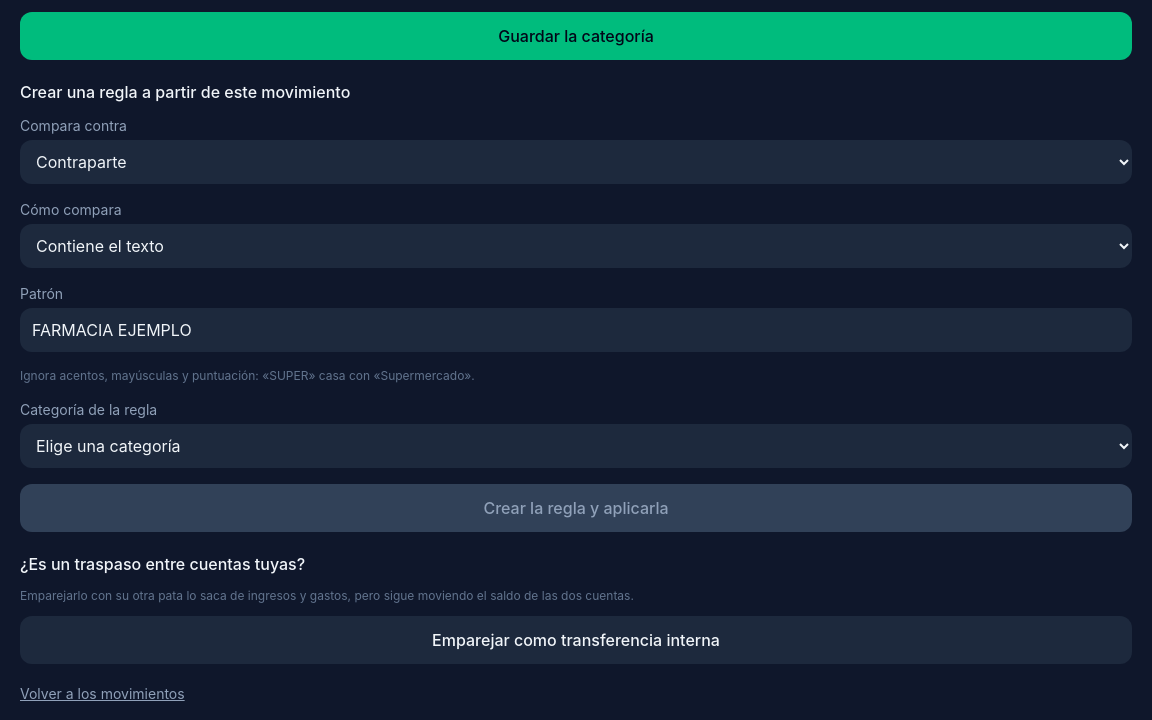
Test: TransactionScreen · crear una regla › enseña el detalle del campo cuando la API rechaza el patrón
(page scrolled)
Select "Salud" in the dropdown labelled "Categoría de la regla" at (576, 446), box [20, 424, 1132, 468]
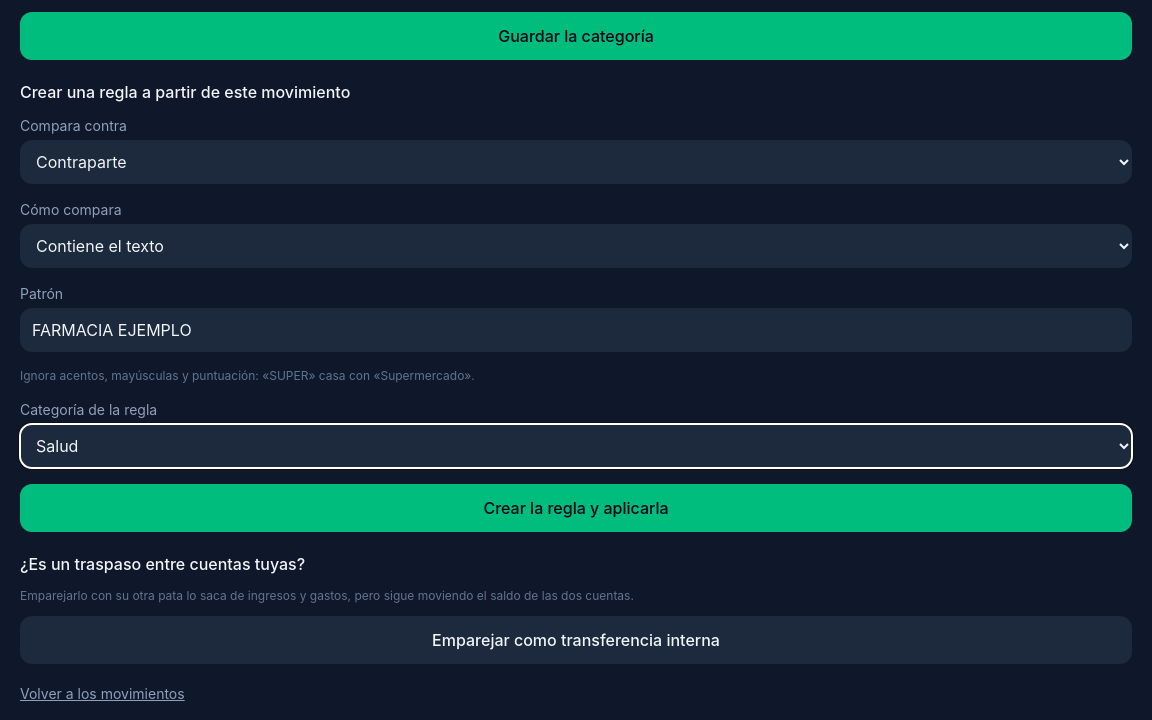
Click the button "Crear la regla y aplicarla" at (576, 508), box [20, 484, 1132, 532]
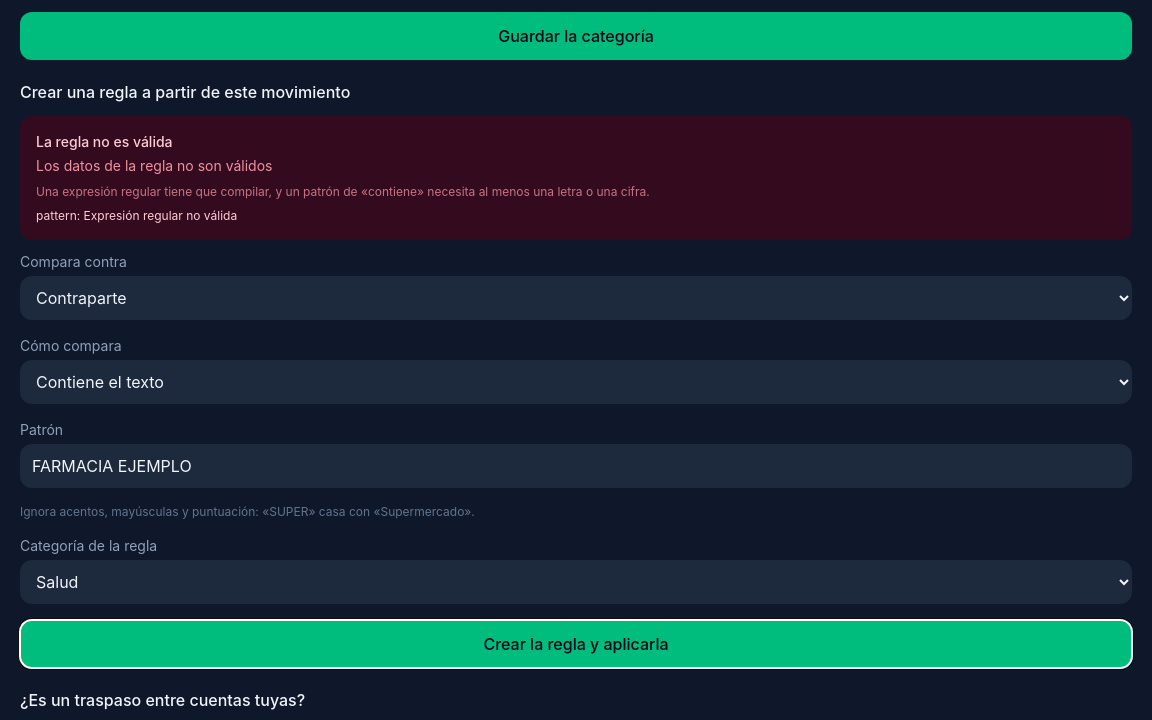
Expected: the message shows "La regla no es válida", [36, 133, 172, 150]
Expected: the message shows "pattern: Expresión regular no válida", [20, 116, 1132, 240]
